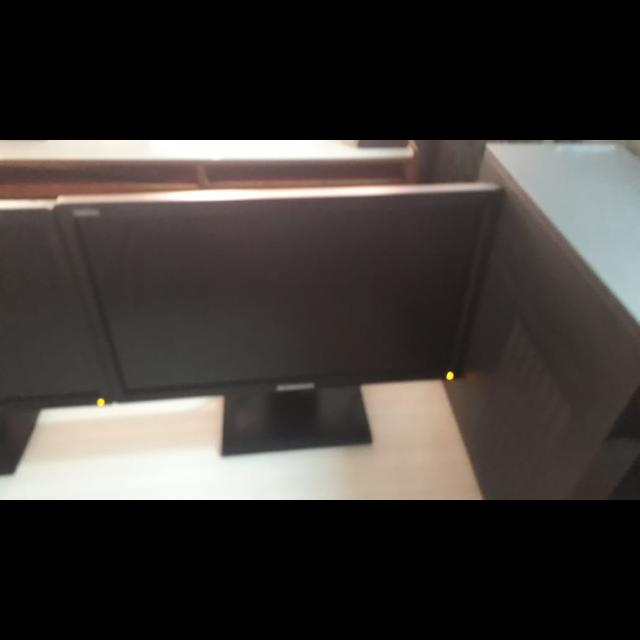Flat-Panel-Monitor: (52, 177, 512, 466)
